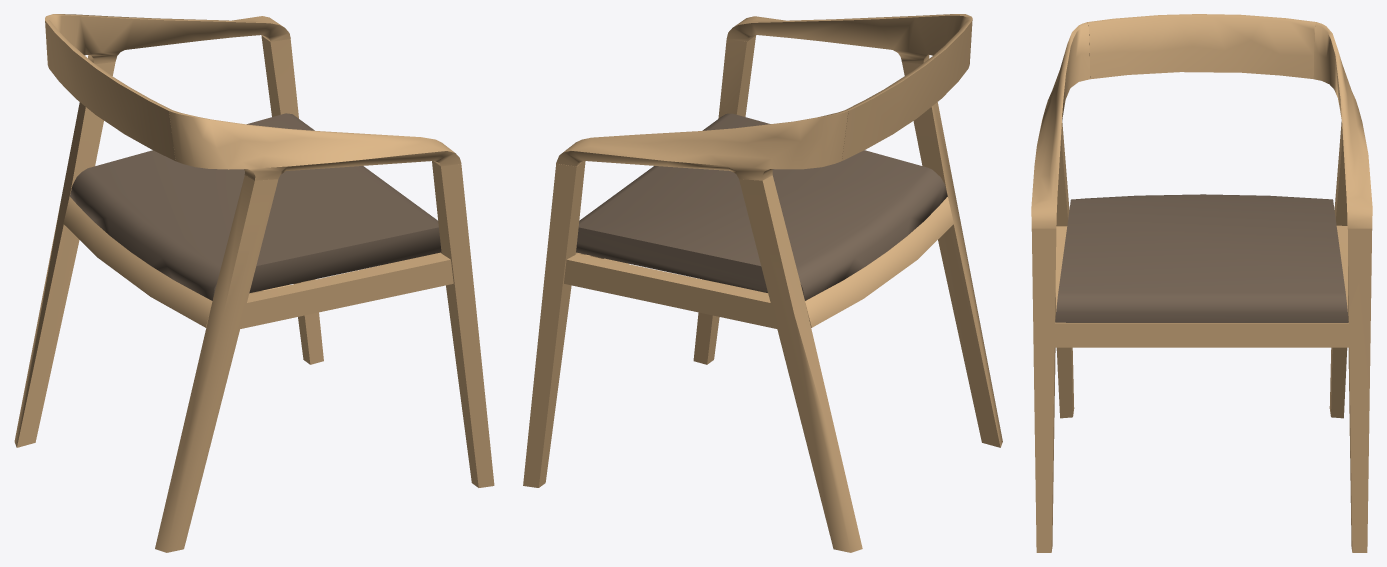
The model's file is chair.dae.
3 renders of one model, left to right at view 1: azimuth 30°, elevation 25°; view 2: azimuth 150°, elevation 25°; view 3: azimuth 270°, elevation 25°, orthographic. The views are drawn at different scales.
Parts seen in each view (by area): view 1: group_0 (×6); view 2: group_0 (×6); view 3: group_0 (×5).
Part boxes in pixels (x1,y1,x2,y2): group_0 (×6): (14,14,494,552); group_0 (×6): (523,14,1002,552); group_0 (×5): (1031,14,1372,552).
Size of the model in its own units: 23.39 by 23.36 by 30.09.
